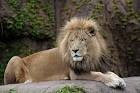lion: (3, 21, 126, 89)
